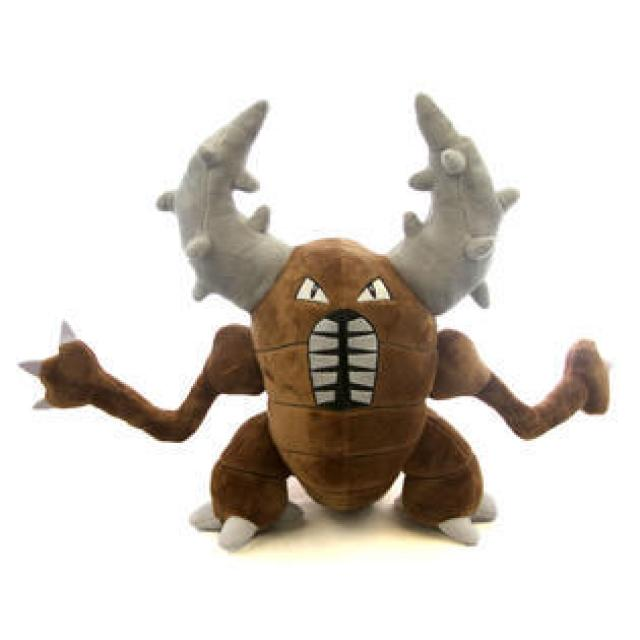Pinsir: (174, 88, 511, 552)
